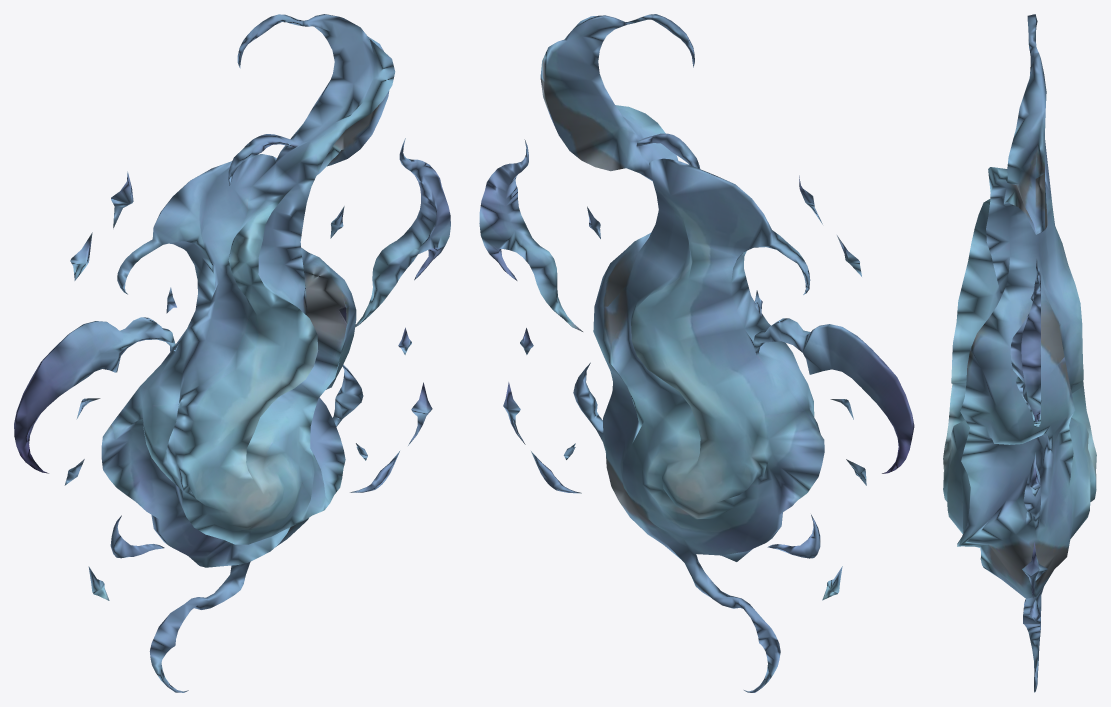
File: seelenlicht_matt.glb
The picture shows the model from 3 angles, left to right: view 1: azimuth 30°, elevation 25°; view 2: azimuth 150°, elevation 25°; view 3: azimuth 270°, elevation 25°; orthographic projection. The views are drawn at different scales.
Parts seen in each view (by area): view 1: baum; view 2: baum; view 3: baum.
Part boxes in pixels (x1,y1,x2,y2): baum: [14, 14, 450, 692]; baum: [479, 14, 914, 692]; baum: [943, 14, 1096, 692].
Size of the model in its own units: 0.554 by 0.8 by 0.1542.
1 material, 1 textured.
